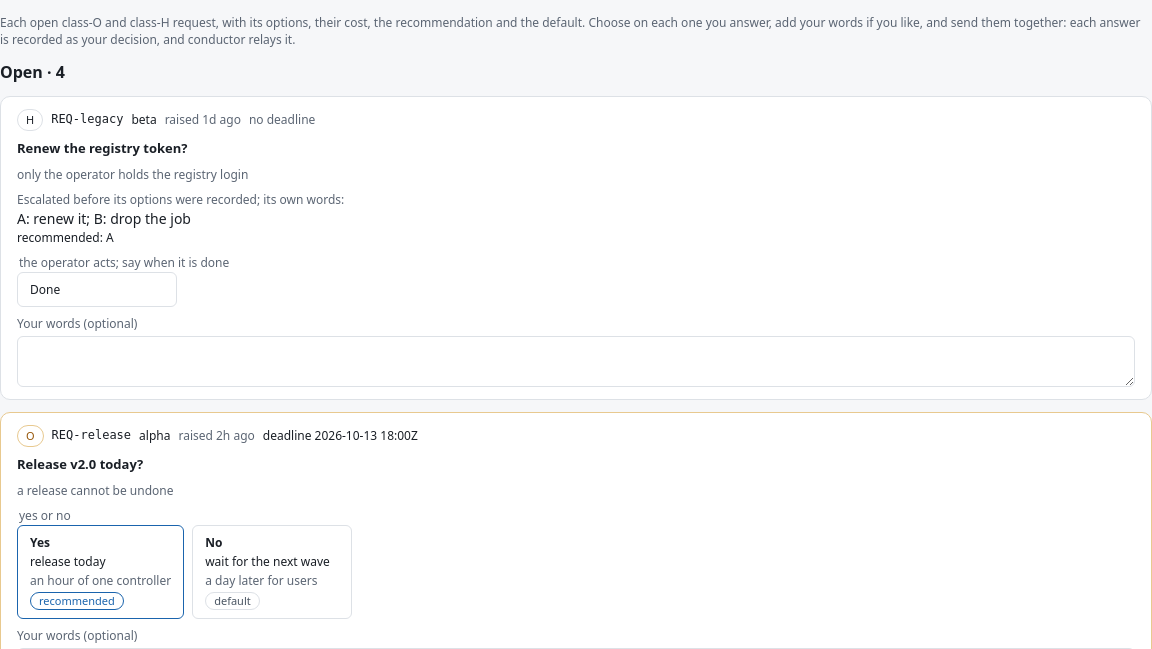
Test: answering on the Decisions page › names a batch refused whole
The image size is (1152, 649).
Click the button with class "choice" that starts with "Yes" at point(101, 572), box [17,525,184,619]
(page scrolled)
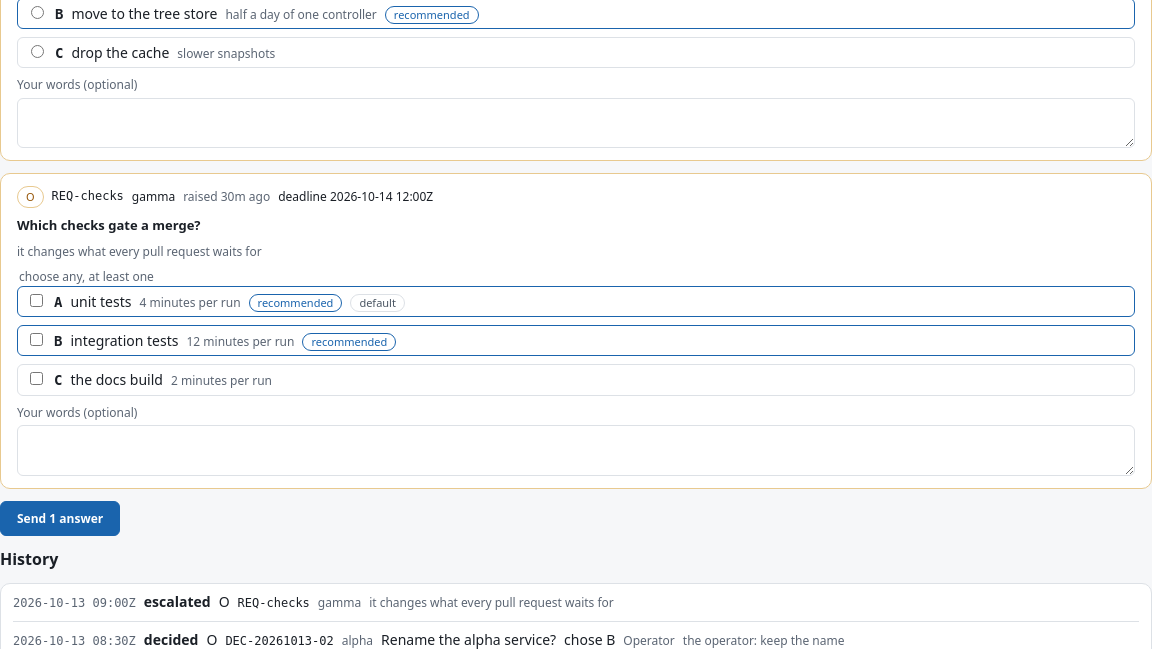
Click the button with class "send" at point(60, 518), box [0,501,120,536]
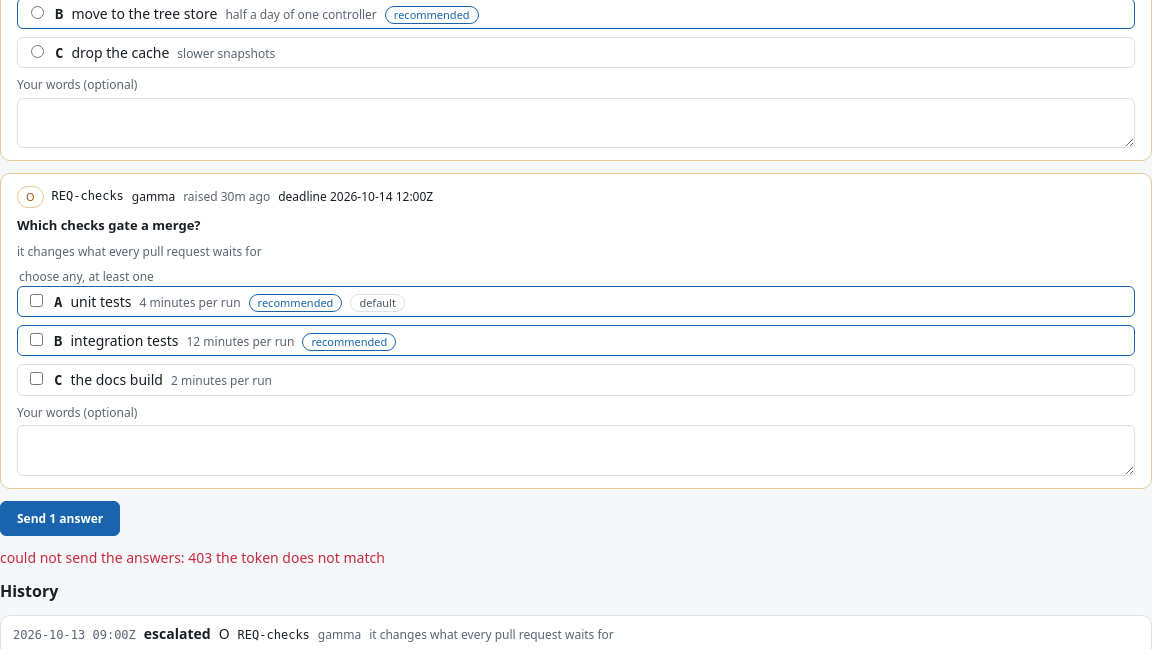
Check: the message with class "send-error" reads "could not send the answers: 403 the token does not match", box [0,548,385,567]
